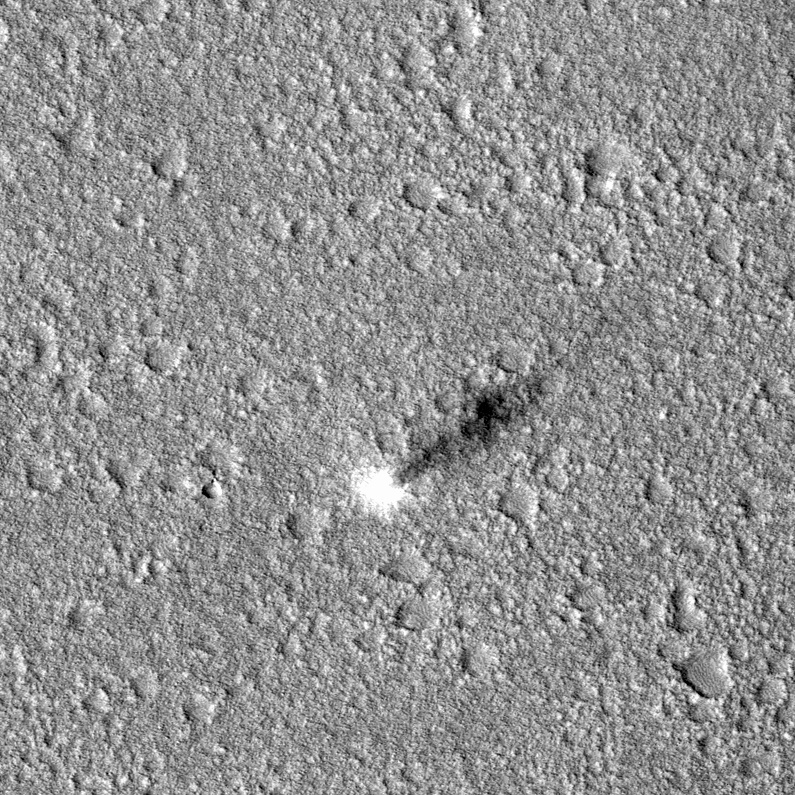dust_devil: (346, 370, 549, 523)
